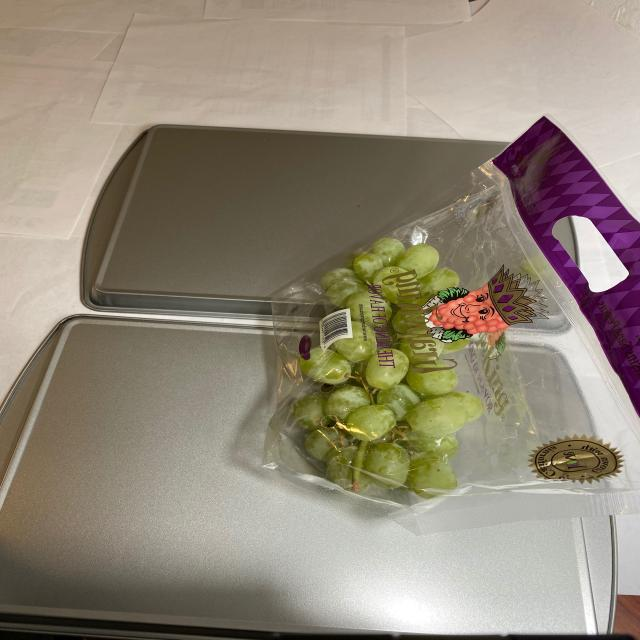grapes: (300, 228, 462, 506)
